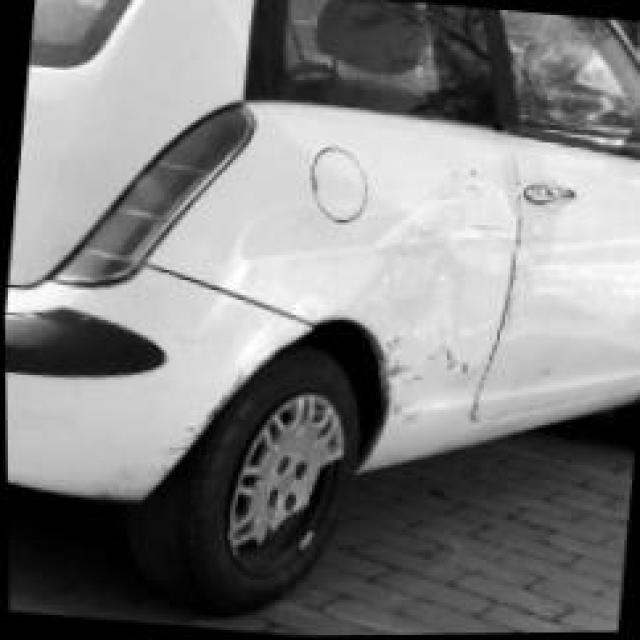Door: (301, 120, 525, 440)
